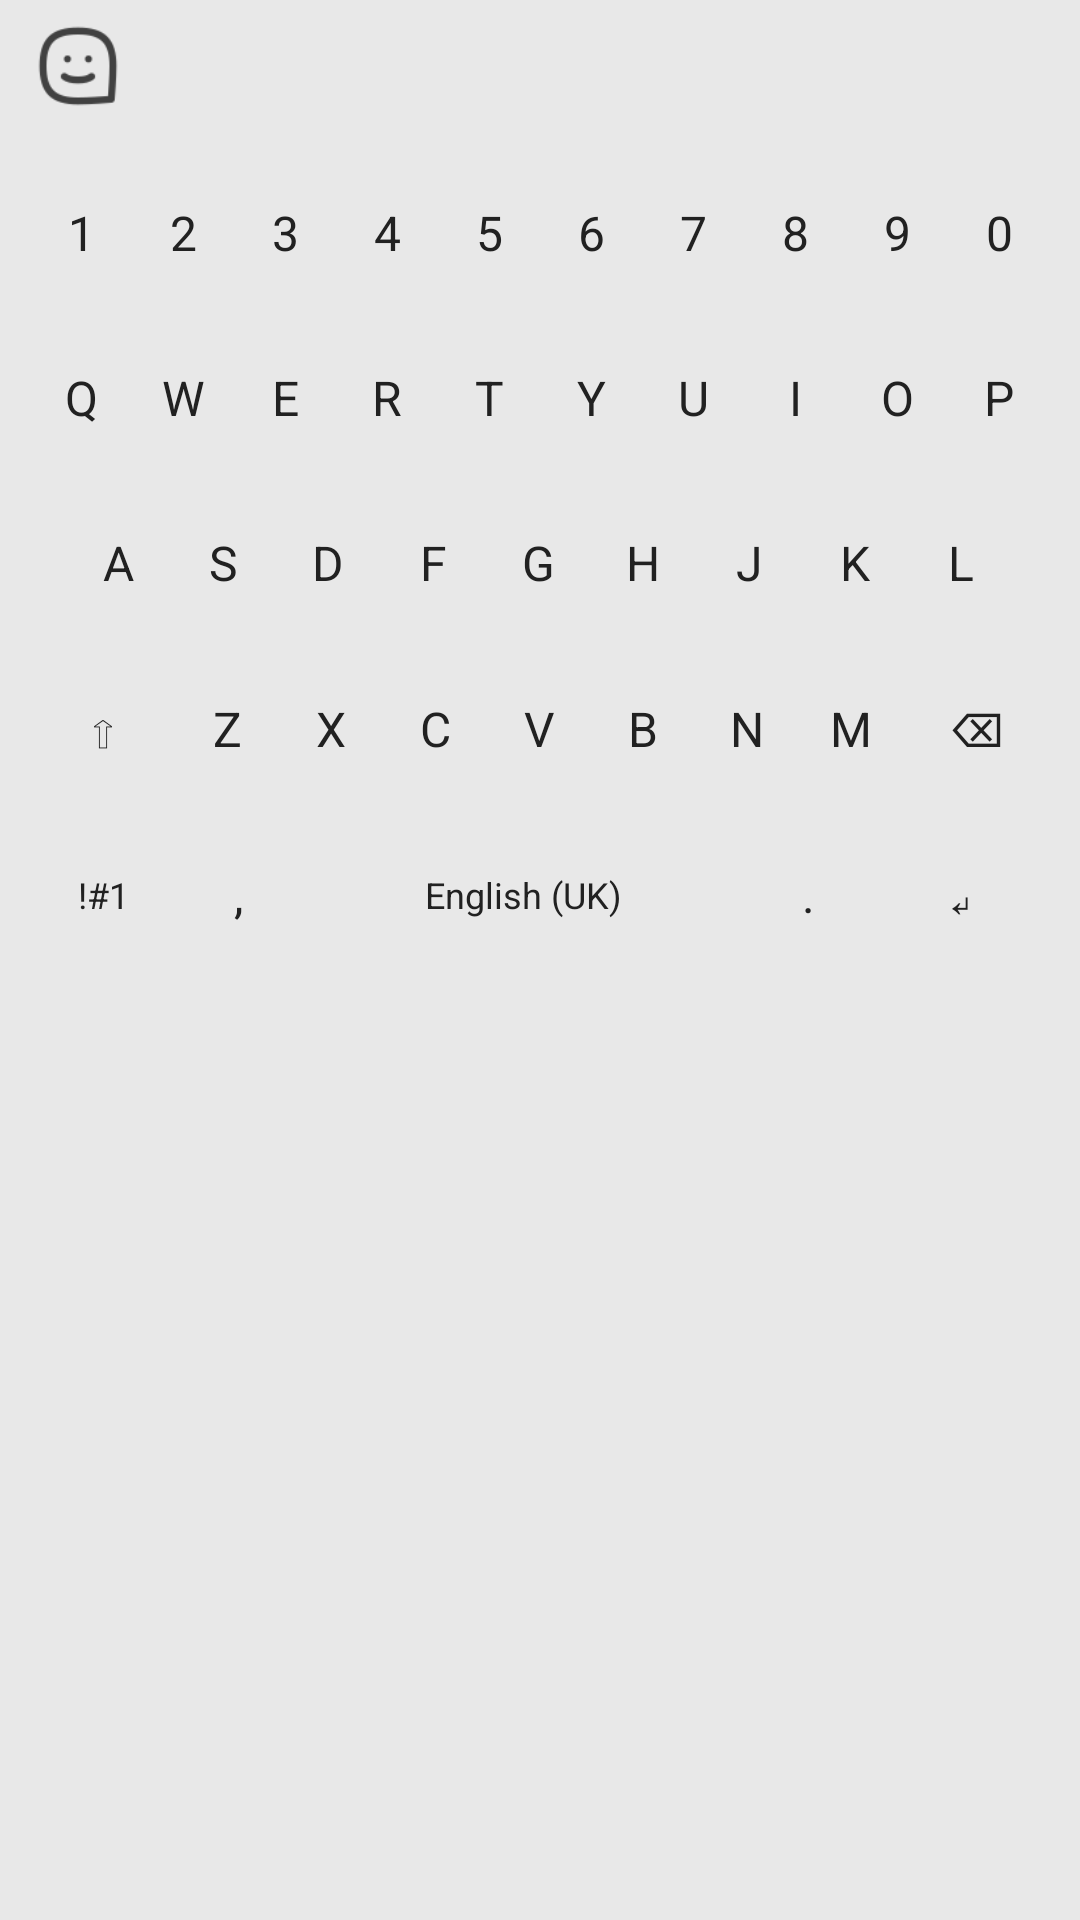

Locate icon controls on the screen. Image size 1080×1920, boxes as {"x1": x1, "y1": y1, "x2": x2, "y2": y2}.
sticker in keyboard: {"x1": 39, "y1": 27, "x2": 117, "y2": 105}
